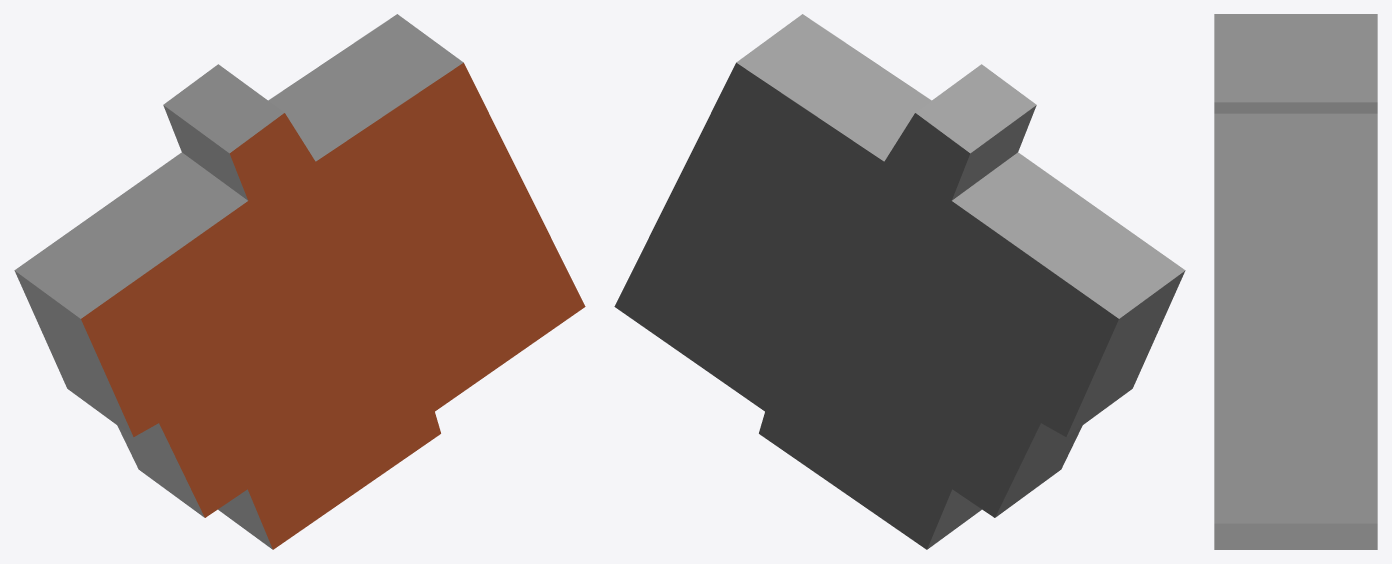
The model's file is construction_3320_assumed_A_Casa_h6m.obj.
The picture shows the model from 3 angles, left to right: view 1: azimuth 30°, elevation 25°; view 2: azimuth 150°, elevation 25°; view 3: azimuth 270°, elevation 25°; orthographic projection. The views are drawn at different scales.
Parts seen in each view (by area): view 1: construction_3320_assumed_A_Casa; view 2: construction_3320_assumed_A_Casa; view 3: construction_3320_assumed_A_Casa.
Part boxes in pixels (x1,y1,x2,y2): construction_3320_assumed_A_Casa: (14,14,585,549); construction_3320_assumed_A_Casa: (614,14,1185,549); construction_3320_assumed_A_Casa: (1214,14,1377,549).
Bounding box in the file's own units: 26.33 × 21.98 × 6.
